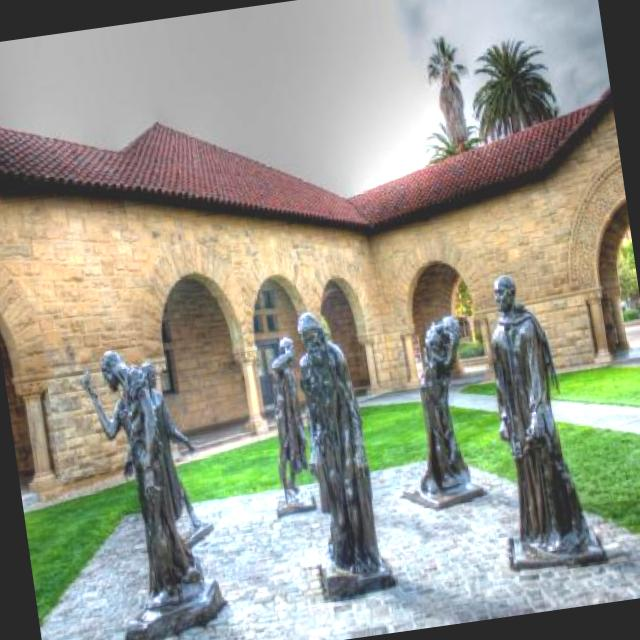Person: (482, 250, 594, 582), (76, 344, 205, 602), (292, 304, 386, 578), (109, 354, 213, 571), (393, 319, 478, 489), (259, 332, 316, 502)
